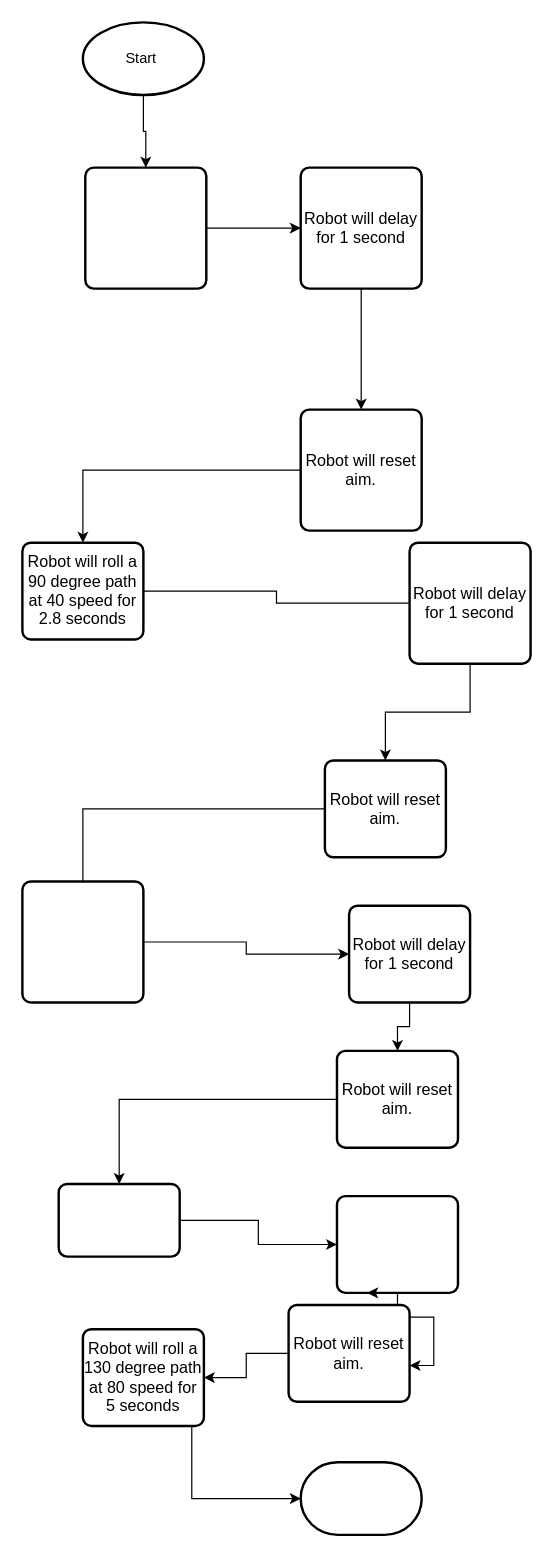
The diagram is 552 pixels wide and 1556 high, and some of its shapes have lost their labels. The box of each missing label's shape, as (x1, y1, x2, y2) in pixels:
Robot will delay for 1 second.: (335, 1194, 459, 1293)
Robot will roll a 0 degree path at 40 speed for 2.5 seconds: (83, 166, 207, 289)
Robot will roll a 270 degree path at 40 speed for 3.05 seconds: (21, 880, 144, 1003)
Robot will roll a 90 degree path at 170 speed for 2 seconds: (57, 1182, 180, 1257)
Terminator: (299, 1460, 422, 1535)
